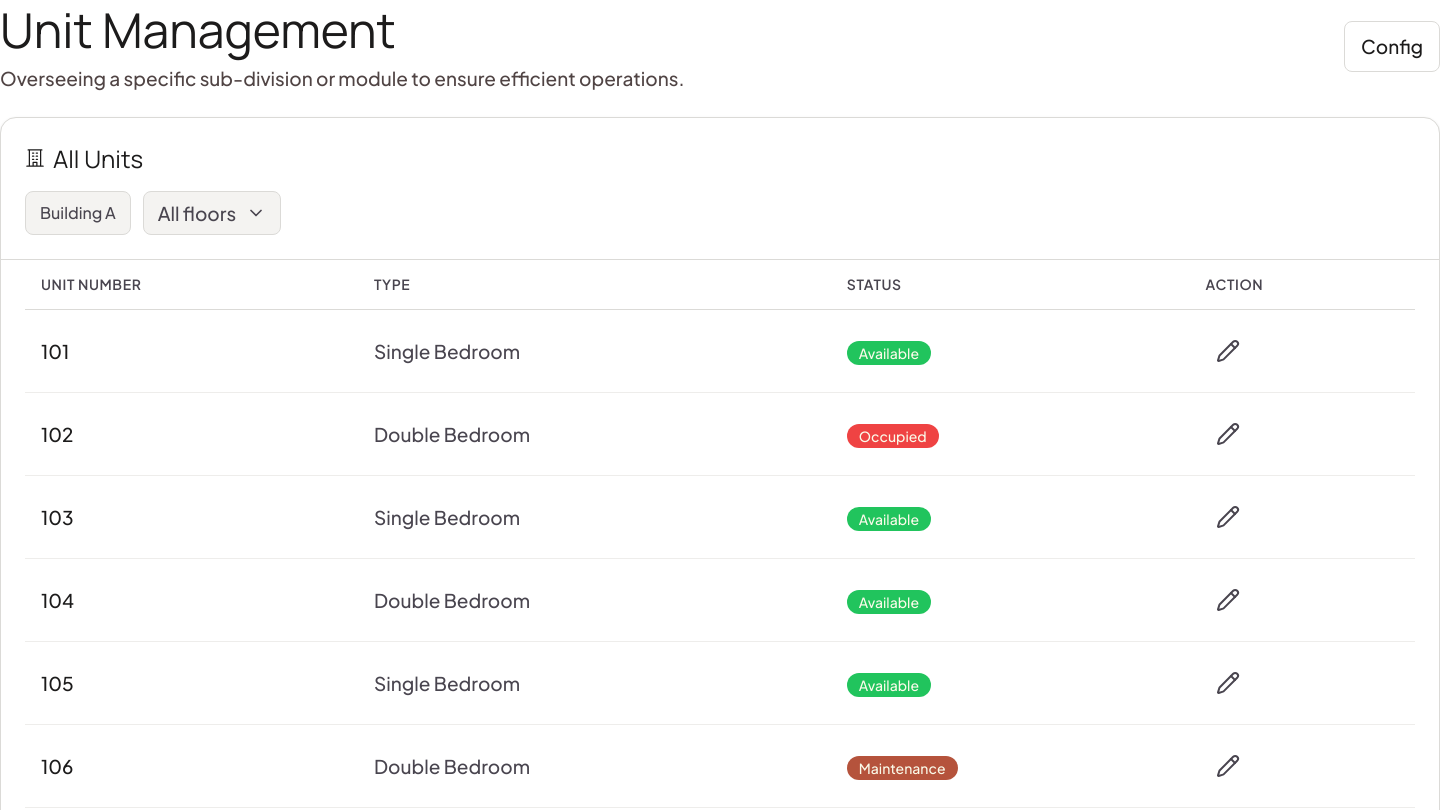
Scenario: US-15-S1 lock a unit for maintenance › sets an available unit to Maintenance and updates the table immediately
The image size is (1440, 810).
Expected: the text "101" is shown, [25,310,358,393]
Click the button named "Set status for unit 101" at (1228, 351), box [1206,329,1250,373]
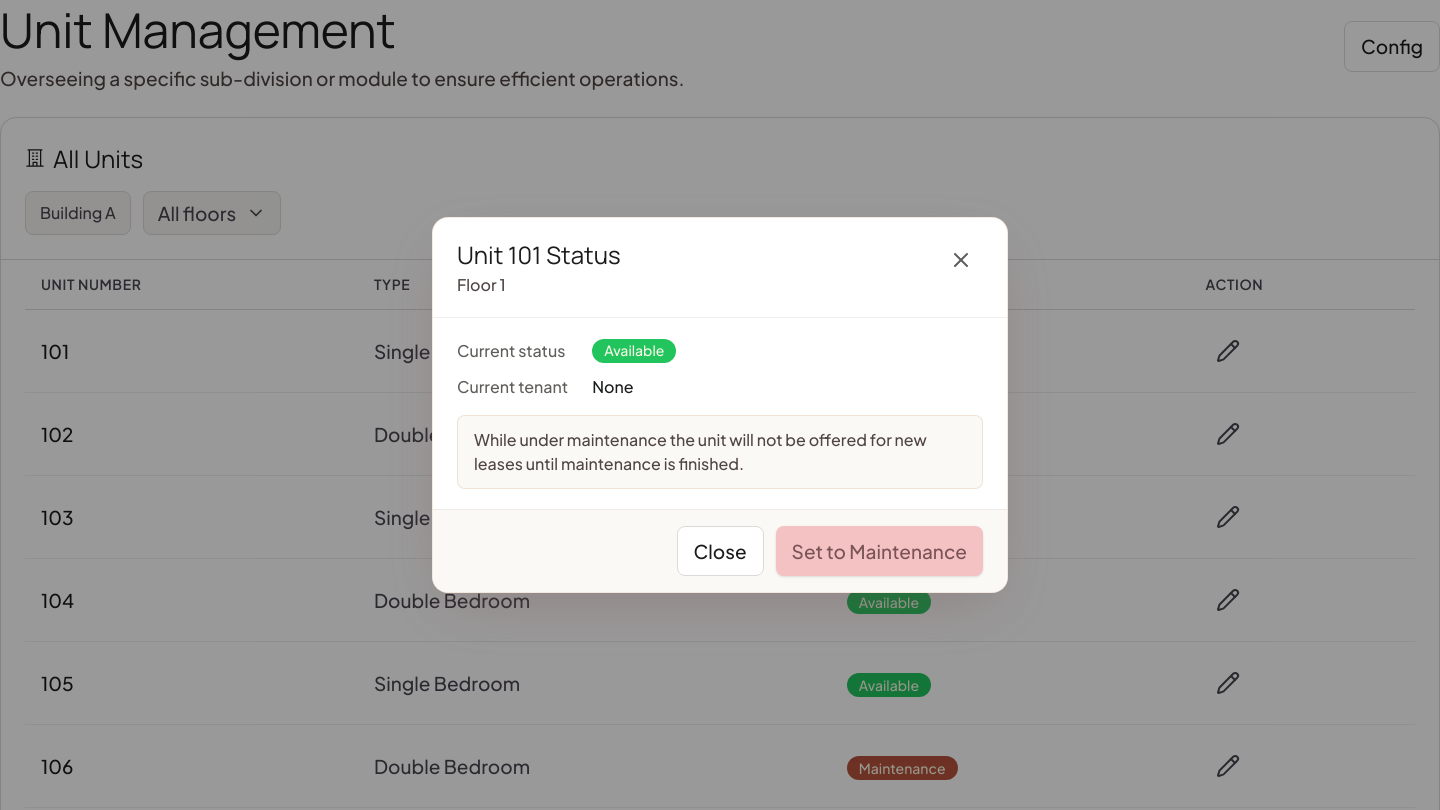
Expected: the heading "Unit 101 Status" is shown, [457,238,620,271]
Click the button "Set to Maintenance" at (879, 551), box [776,526,983,576]
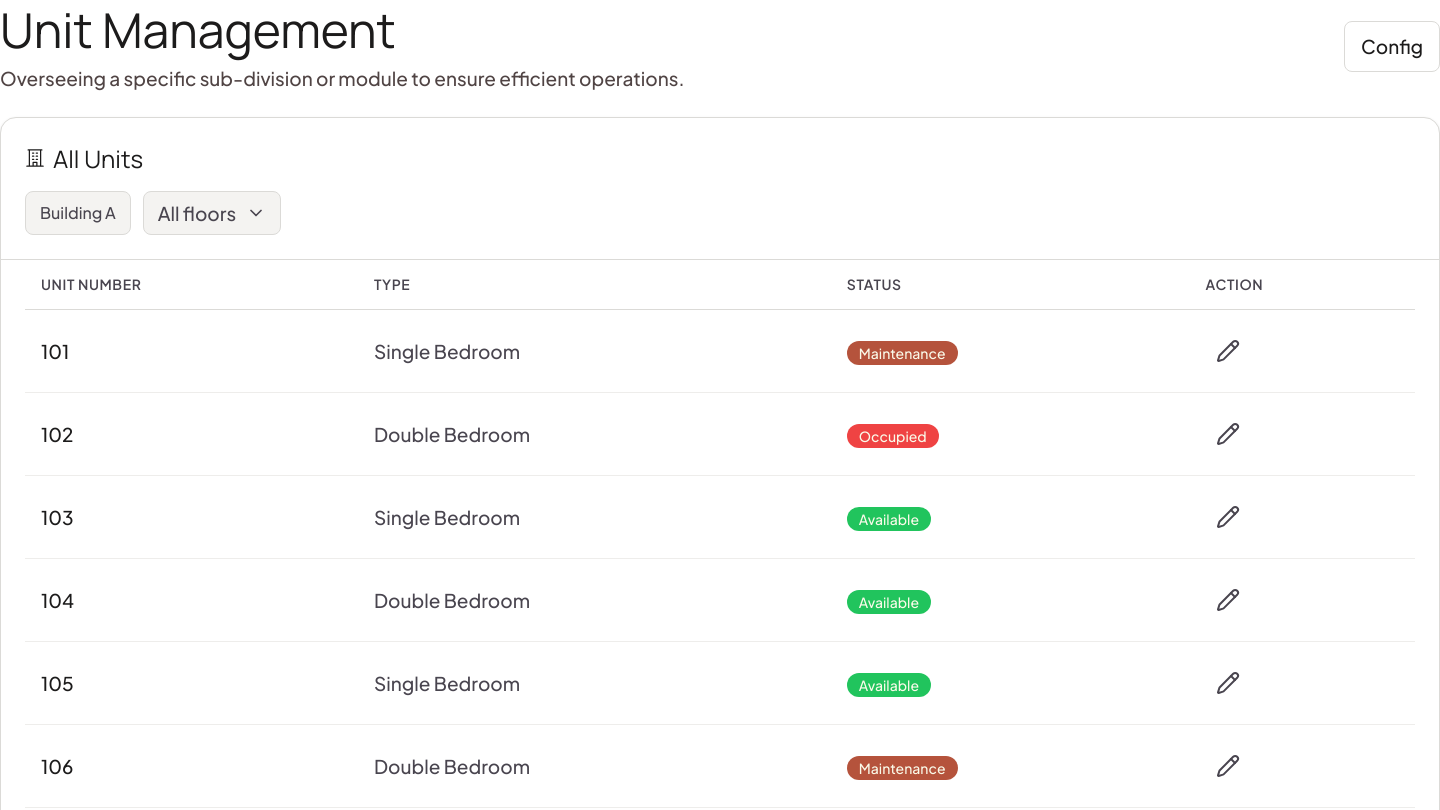
Expected: the text "Maintenance" in the row of "101" is shown, [859,344,946,362]
Expected: the dialog is gone
